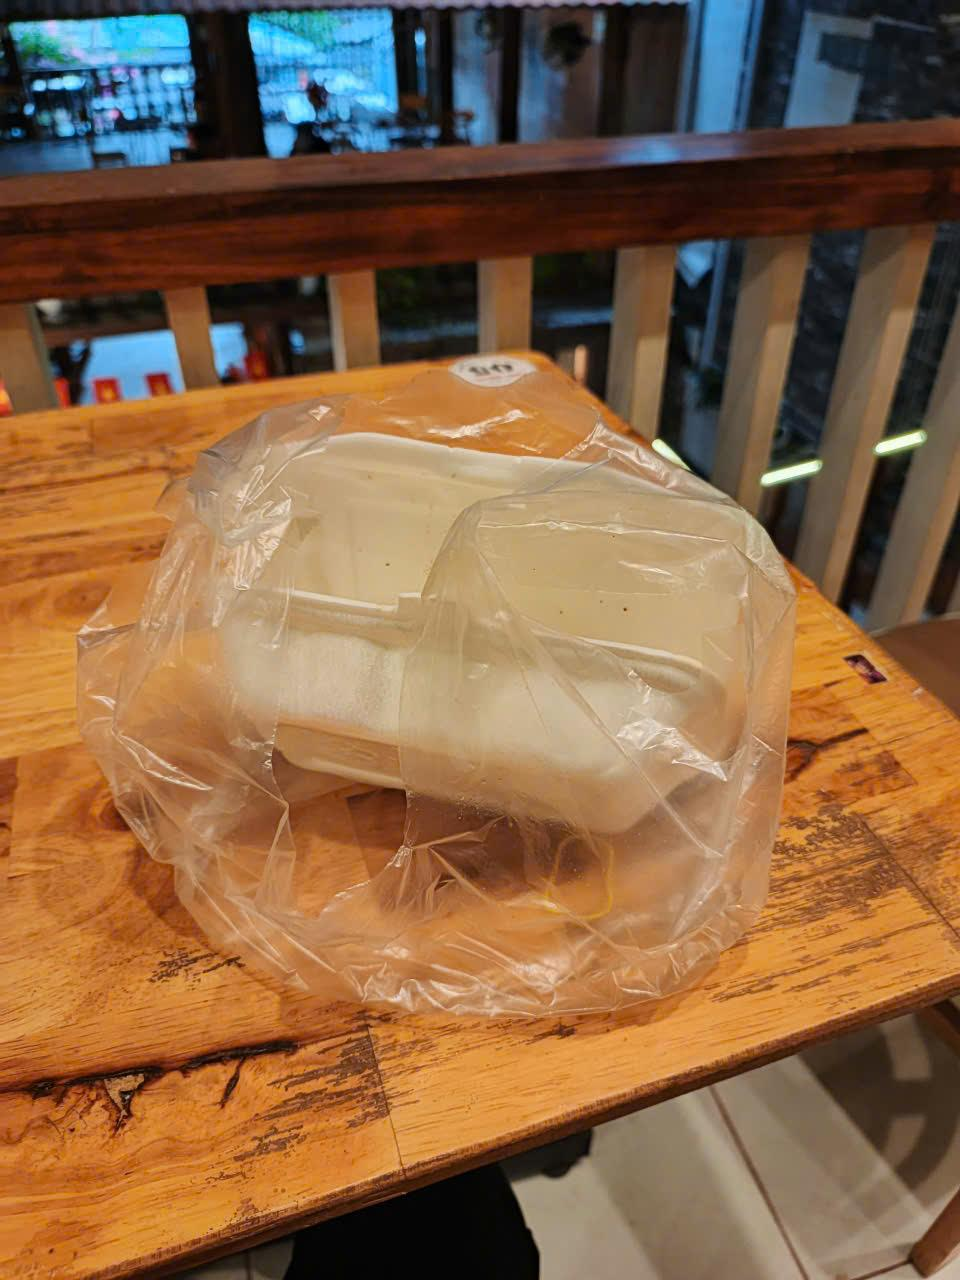Con lai: (108, 395, 784, 1013)
